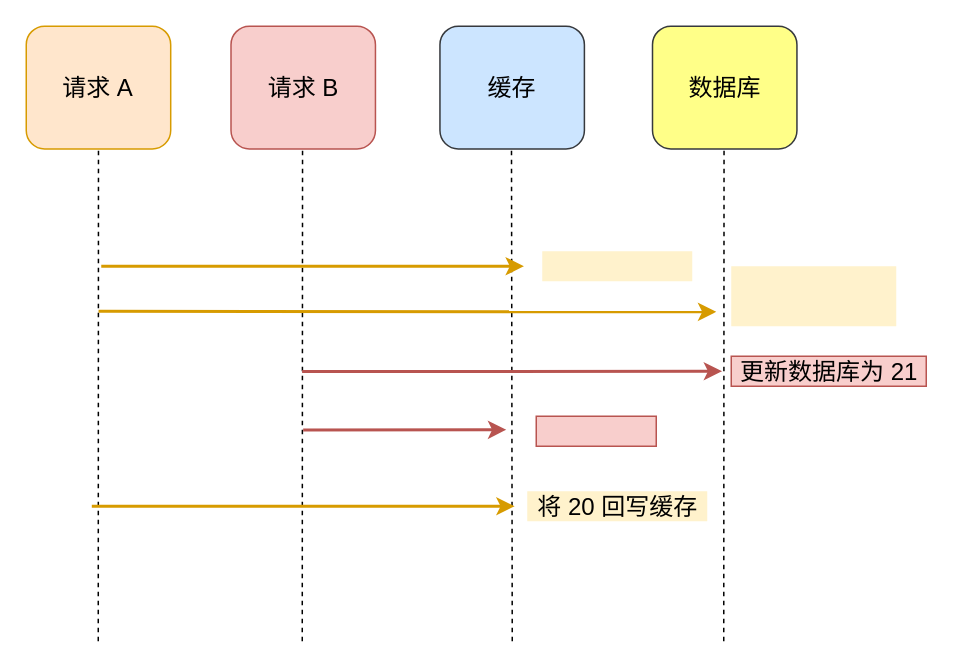
Image size: 953x669. Some labels were removed from this diagram. The shapes that lost their labels are listed below. From the top down, each one's centre as x and y in pixels, then its label:
point (617, 265): 缓存未命中
point (813, 296): 读取数据库的 值为 20
point (595, 430): 删除缓存
